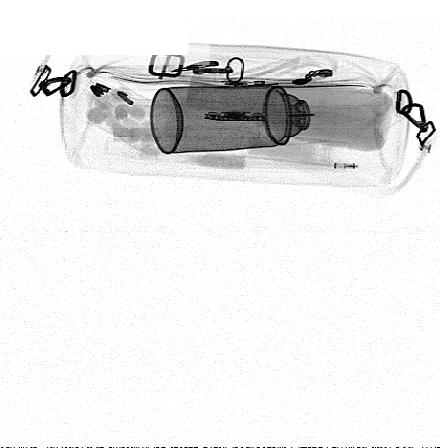Sprayer: (148, 86, 337, 154)
